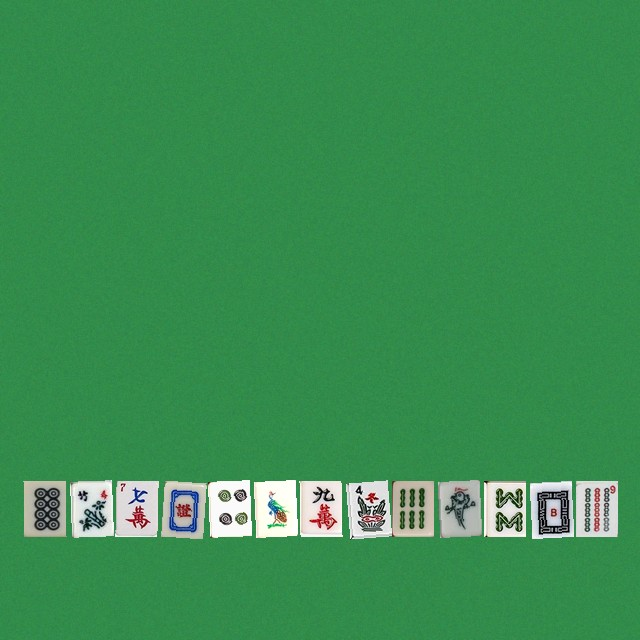tile: (23, 480, 65, 536), (69, 480, 111, 536), (115, 480, 157, 536), (161, 480, 203, 536), (207, 480, 249, 536), (253, 480, 295, 536), (299, 480, 341, 536), (345, 480, 387, 536), (391, 480, 433, 536), (437, 480, 479, 536), (483, 480, 525, 536), (529, 480, 571, 536), (575, 480, 617, 536)
